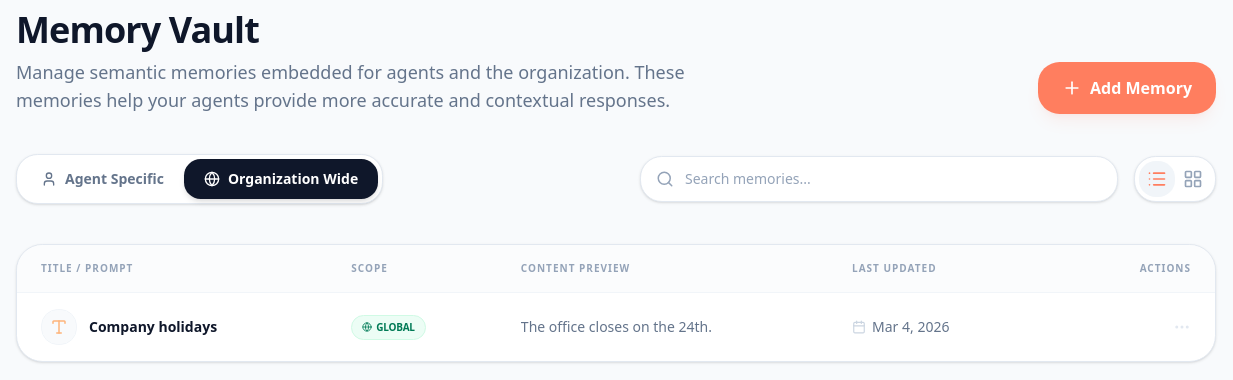
Test: the memory vault page › the scope toggle › offers an agent picker only in agent scope
Expected: the text "Company holidays" is shown, x1=89 y1=317 x2=217 y2=337
Click the button "Agent Specific": (102, 179) x1=21 y1=159 x2=184 y2=199
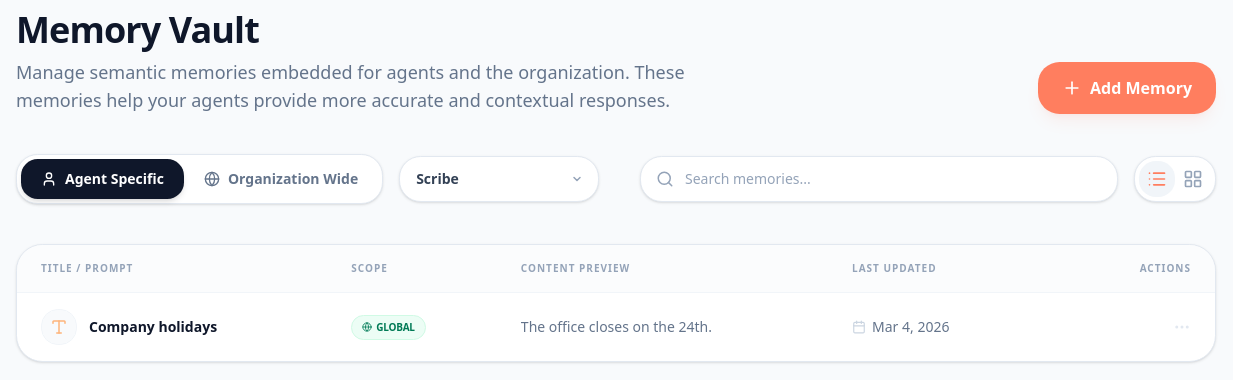
Now the dropdown is shown, box x1=399 y1=156 x2=599 y2=202
